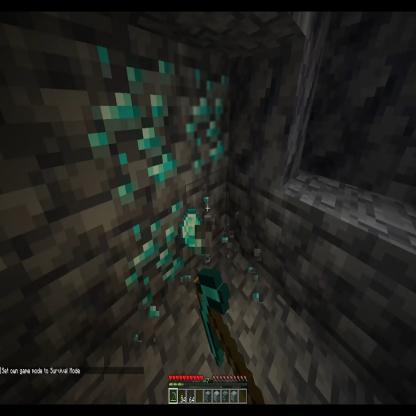diamond ore: (75, 24, 174, 202), (104, 186, 189, 317), (177, 48, 235, 178)
